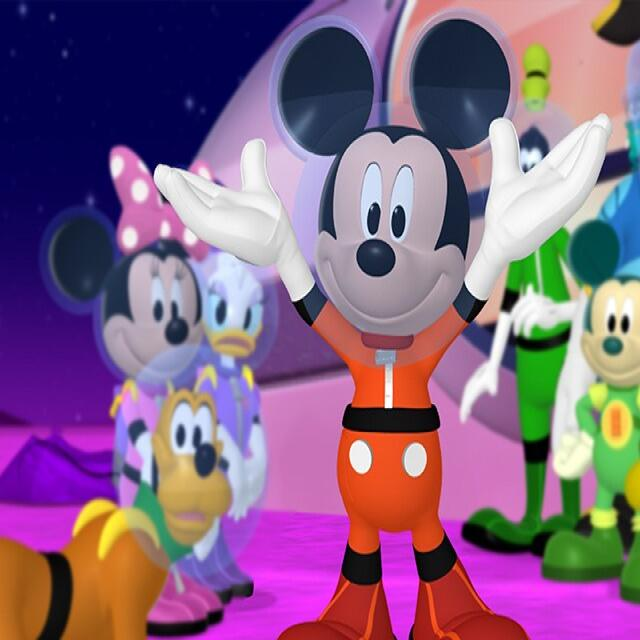mickey: (254, 9, 523, 640), (570, 226, 640, 401)
